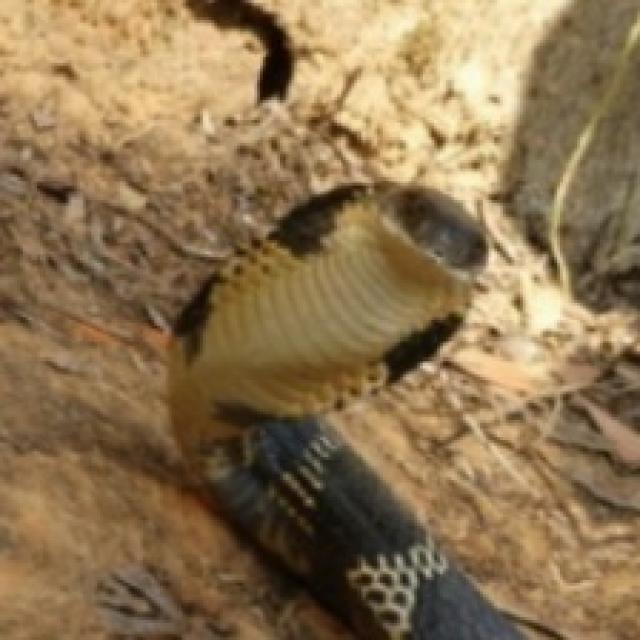king cobra: (169, 186, 524, 640)
